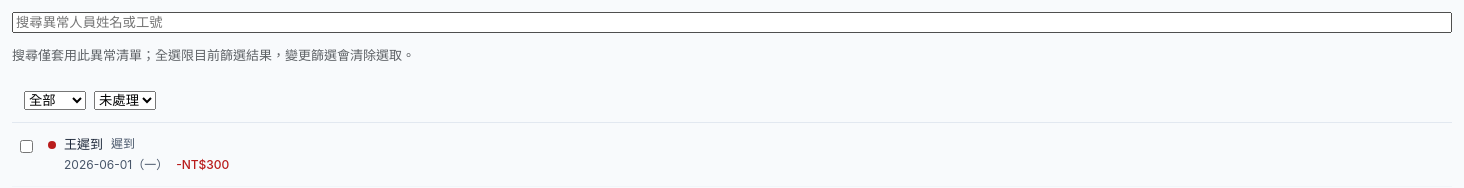
Test case: AnomalyQueueColumn › shows empty state when filtered list is empty (non-loading)
Select "早退" in the 1st dropdown at (55, 100), box top-left (24, 90), bottom-right (86, 110)
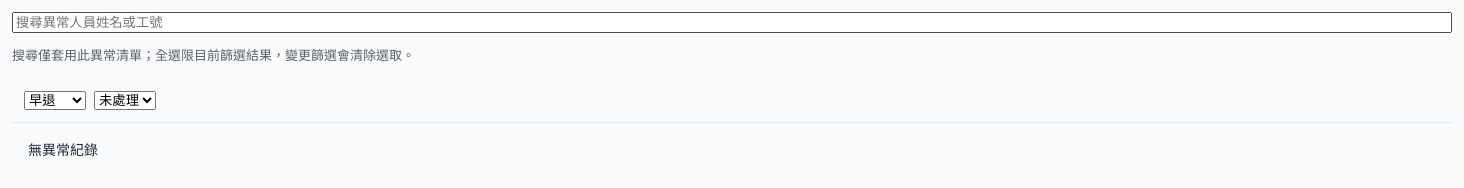
Result: the text "無異常紀錄" is shown at top-left (28, 140), bottom-right (98, 158)
